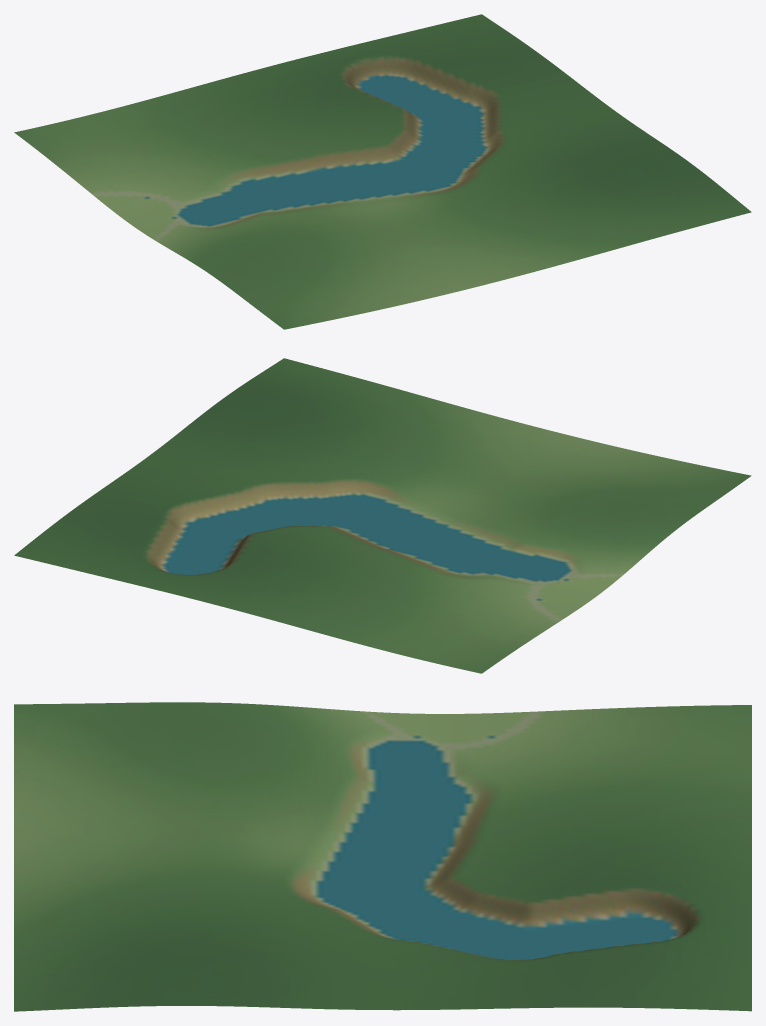
The model's file is terrain_T_E00_N00.glb.
The picture shows the model from 3 angles, top to bottom: view 1: azimuth 30°, elevation 25°; view 2: azimuth 150°, elevation 25°; view 3: azimuth 270°, elevation 25°; orthographic projection. The views are drawn at different scales.
Visible parts, largest first — view 1: Terrain_T_E00_N00; view 2: Terrain_T_E00_N00; view 3: Terrain_T_E00_N00.
Part boxes in pixels (x1,y1,x2,y2): Terrain_T_E00_N00: (14,14,751,329); Terrain_T_E00_N00: (14,358,751,673); Terrain_T_E00_N00: (14,702,751,1011).
Bounding box in the file's own units: 2000 × 60.98 × 2000.
1 material, 1 textured.
